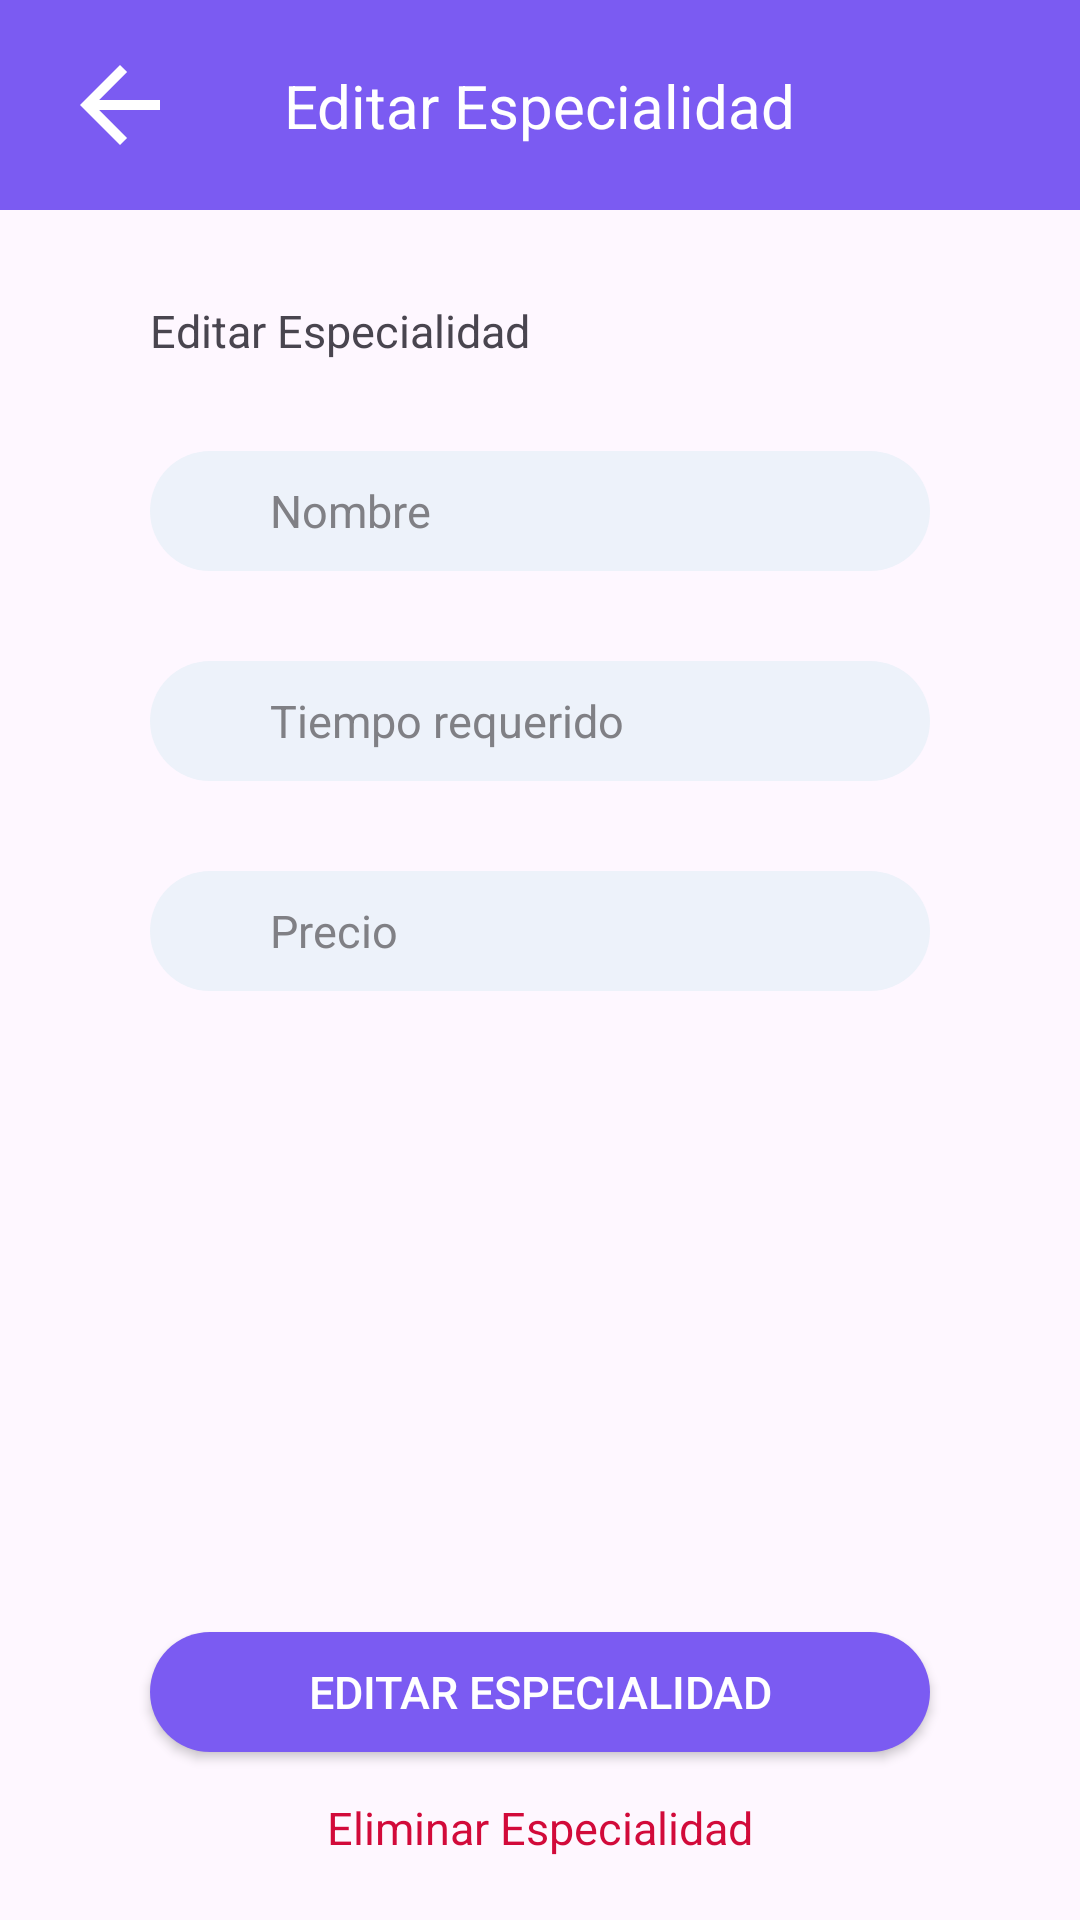

Point at icon controls on the screen. Image size 1080*1920, points as (x=x, y=y).
back arrow: (x=120, y=105)
